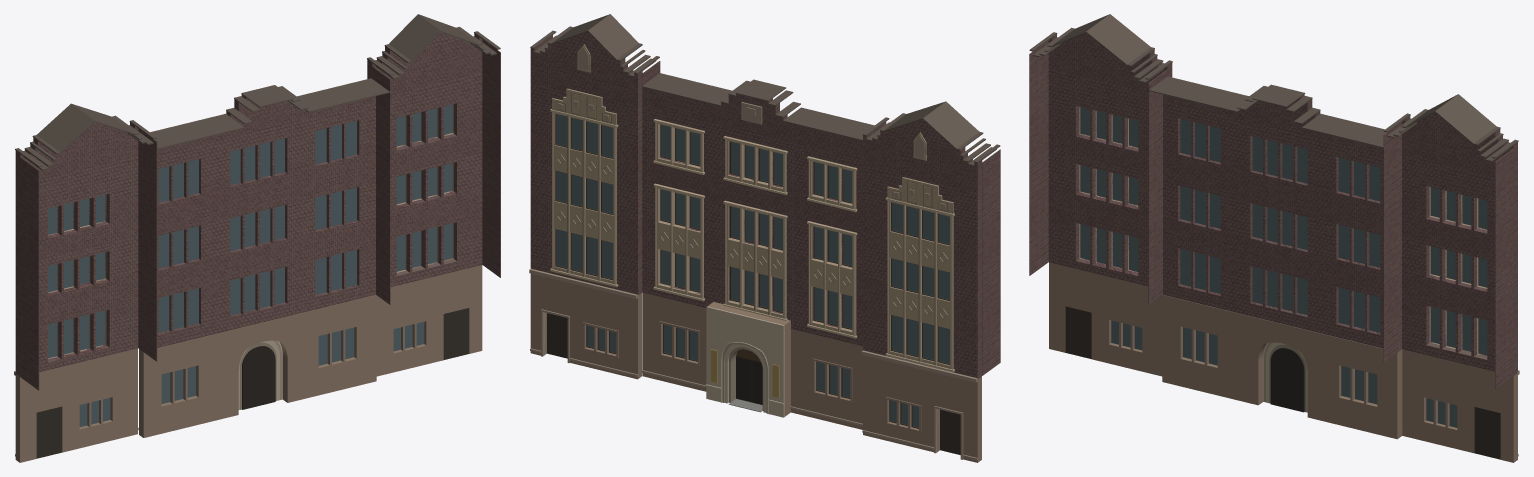
File: huangpu-cathedral-school-jiujiang-front-lod.glb
3 views of the same model, side by side, from view 1: azimuth 30°, elevation 25°; view 2: azimuth 150°, elevation 25°; view 3: azimuth 330°, elevation 25° (orthographic). The views are drawn at different scales.
Parts seen in each view (by area): view 1: 九江路原教会学校入口与双山墙; view 2: 九江路原教会学校入口与双山墙; view 3: 九江路原教会学校入口与双山墙.
Boxes of the visible parts, x1,y1,x2,y2 form: 九江路原教会学校入口与双山墙: [14, 14, 500, 462]; 九江路原教会学校入口与双山墙: [529, 14, 1000, 462]; 九江路原教会学校入口与双山墙: [1029, 14, 1519, 462].
Size of the model in its own units: 30.14 by 21.67 by 2.95.
Materials: 20 (1 with a texture image).
